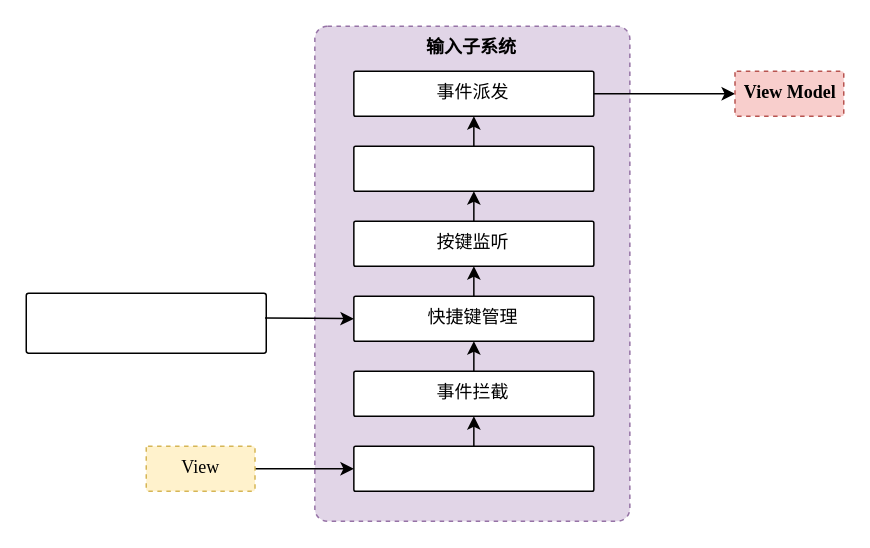
This 870x548 diagram has some shape labels left out. The shapes that lost their labels are listed below. From the top down, each one's centre as x and y in pixels, then its label:
At (x=473, y=168): "按键订阅".
At (x=145, y=322): "按键映射数据 （KeyModel）".
At (x=473, y=468): "归一化处理".
